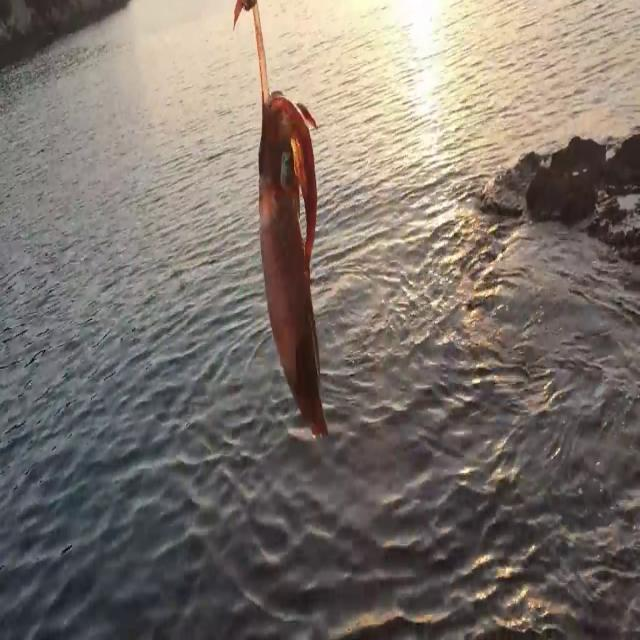SQUID: (243, 33, 335, 460)
